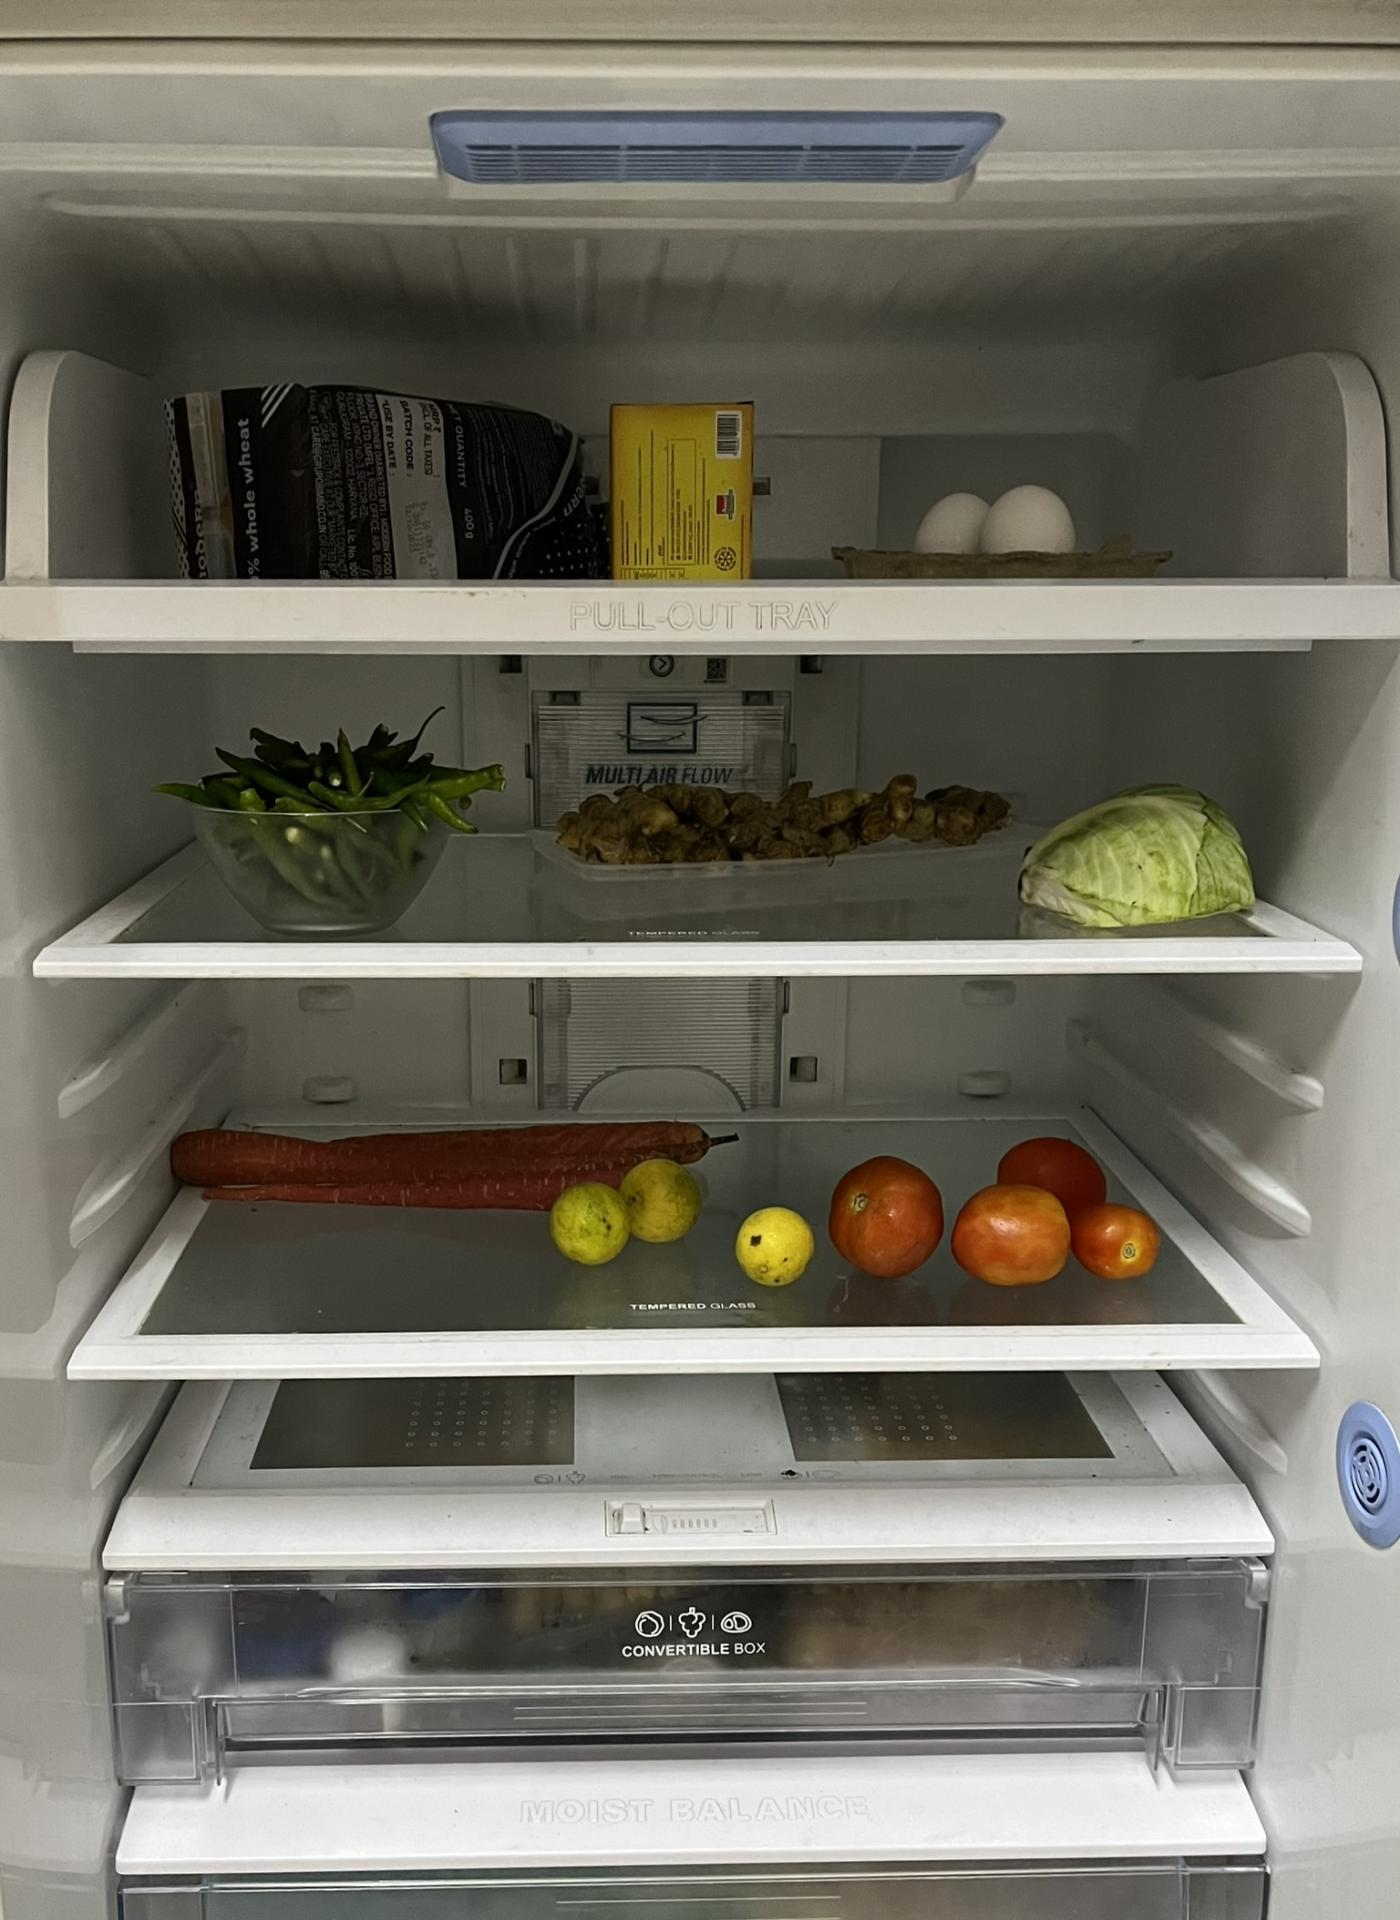bread: (165, 368, 605, 578)
butter: (616, 397, 750, 581)
cabbage: (1015, 789, 1260, 930)
carrots: (173, 1118, 729, 1230)
chillies: (176, 730, 483, 917)
egg: (914, 486, 1079, 572)
ginger: (570, 762, 1011, 869)
lemon: (549, 1155, 708, 1275), (732, 1196, 816, 1292)
tomato: (826, 1130, 1157, 1282)
